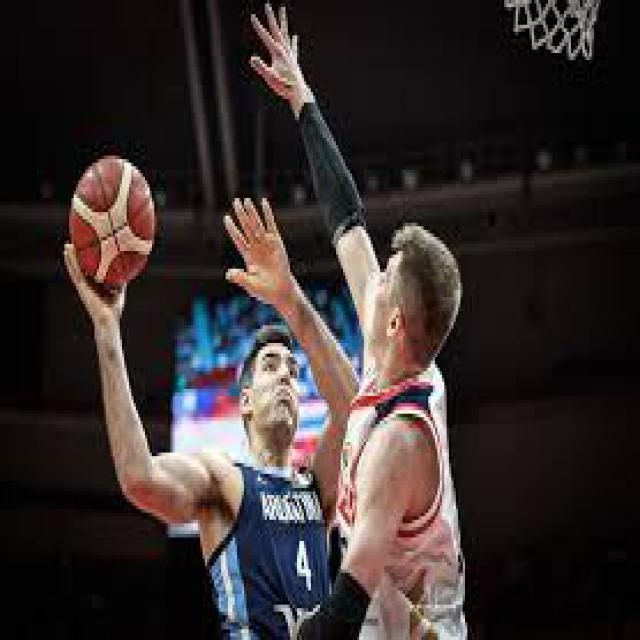basketball: (69, 159, 154, 290)
